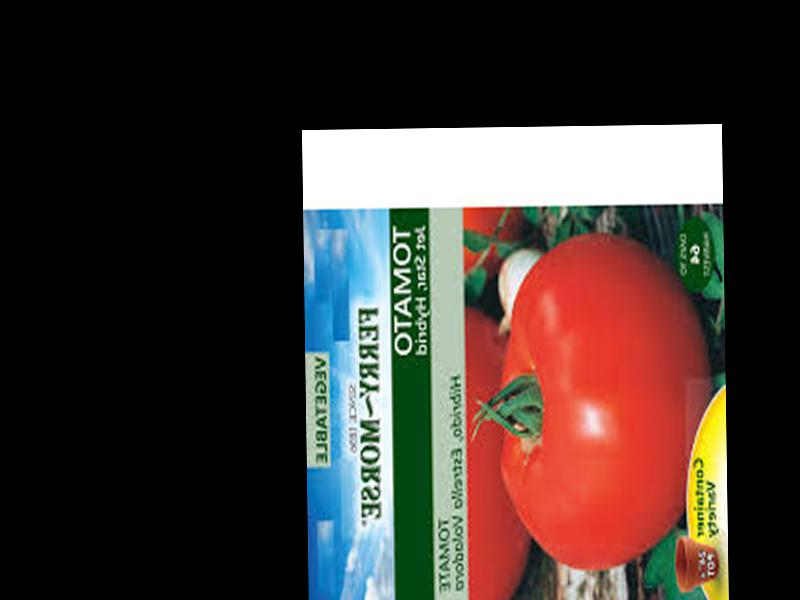Tomato: (497, 231, 713, 568)
